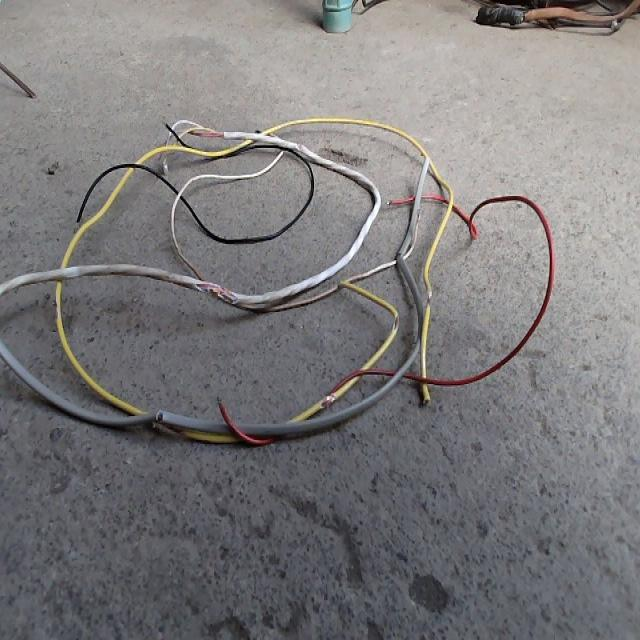-: (193, 280, 237, 303), (319, 392, 334, 407), (154, 408, 164, 421), (425, 289, 432, 307), (392, 312, 398, 331)
